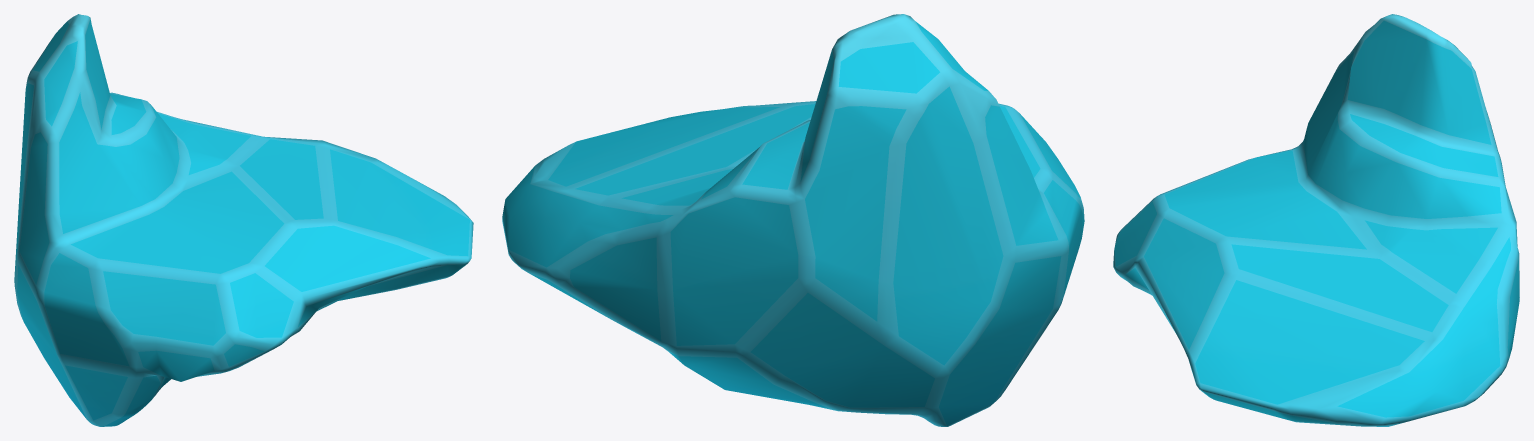
The model's file is ice_021.fbx.
3 views of the same model, side by side, from view 1: azimuth 30°, elevation 25°; view 2: azimuth 150°, elevation 25°; view 3: azimuth 270°, elevation 25° (orthographic). The views are drawn at different scales.
Parts seen in each view (by area): view 1: ice_021; view 2: ice_021; view 3: ice_021.
Part boxes in pixels (left/top/right/bottom): ice_021: left=14, top=14, right=473, bottom=426; ice_021: left=502, top=14, right=1084, bottom=426; ice_021: left=1113, top=14, right=1519, bottom=426.
Bounding box in the file's own units: 721 × 594 × 575.
